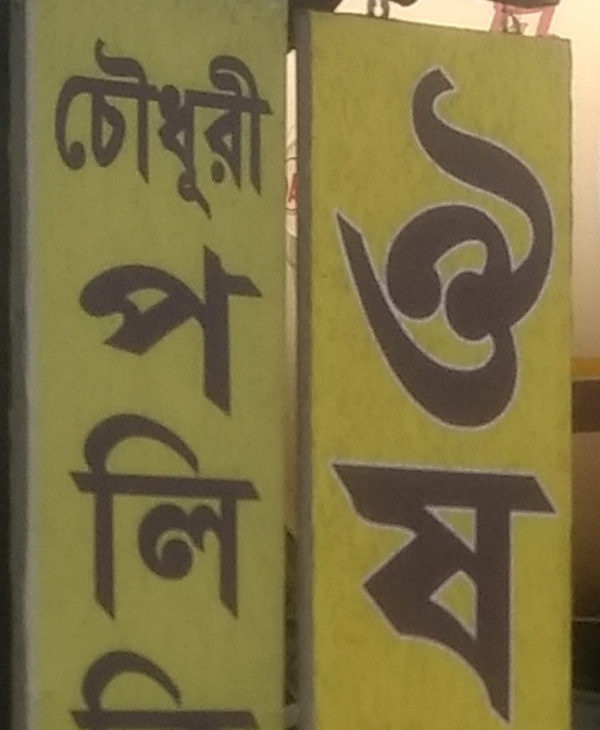text: (337, 47, 352, 725), (353, 47, 368, 725), (369, 47, 384, 725), (385, 47, 400, 725), (401, 47, 416, 725), (417, 47, 432, 725), (433, 47, 448, 725), (449, 47, 464, 725), (465, 47, 480, 725), (481, 47, 496, 725), (497, 47, 512, 725), (513, 47, 528, 725), (529, 47, 544, 725), (545, 47, 560, 725), (325, 47, 336, 725), (65, 237, 80, 648), (81, 237, 96, 648), (97, 237, 112, 648), (113, 237, 128, 648), (129, 237, 144, 648), (145, 237, 160, 648), (161, 237, 176, 648), (177, 237, 192, 648), (193, 237, 208, 648), (209, 237, 224, 648), (225, 237, 240, 648), (241, 237, 256, 648), (257, 237, 271, 648), (49, 21, 64, 229), (65, 21, 80, 229), (81, 21, 96, 229), (97, 21, 112, 229), (113, 21, 128, 229), (129, 21, 144, 229), (145, 21, 160, 229), (161, 21, 176, 229), (177, 21, 192, 229), (193, 21, 208, 229), (209, 21, 224, 229), (225, 21, 240, 229), (241, 21, 256, 229), (257, 21, 272, 229), (561, 47, 564, 725), (273, 21, 279, 229), (49, 650, 64, 727), (65, 650, 80, 727), (81, 650, 96, 727), (97, 650, 112, 727), (113, 650, 128, 727), (129, 650, 144, 727), (145, 650, 160, 727), (161, 650, 176, 727), (177, 650, 192, 727), (193, 650, 208, 727), (209, 650, 224, 727), (225, 650, 240, 727), (241, 650, 256, 727), (257, 650, 272, 727), (273, 650, 281, 727), (46, 21, 48, 229), (45, 650, 48, 727)
